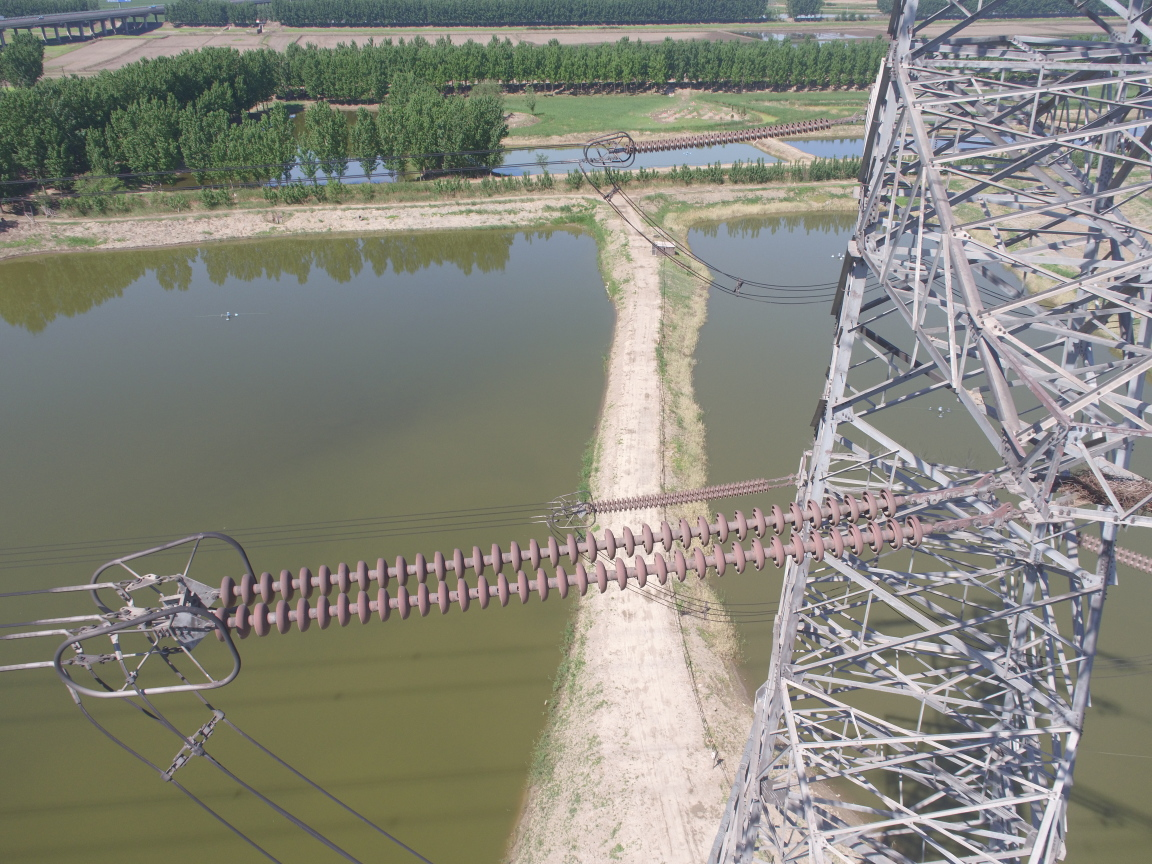insulator: (203, 488, 945, 642), (621, 115, 838, 153), (586, 475, 776, 517)
